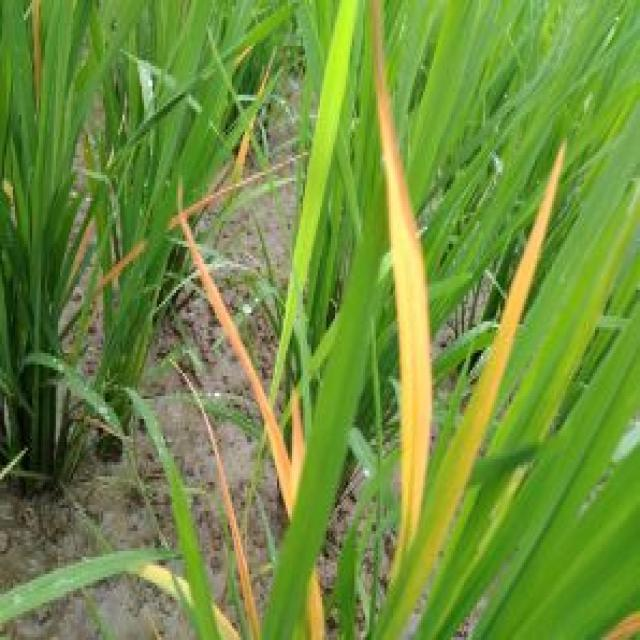Rice Tungro: (366, 6, 442, 520)
